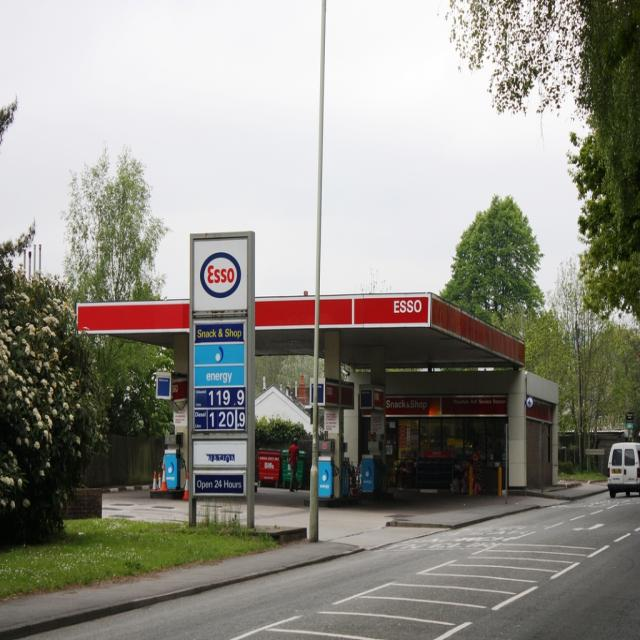esso: (196, 249, 246, 303)
